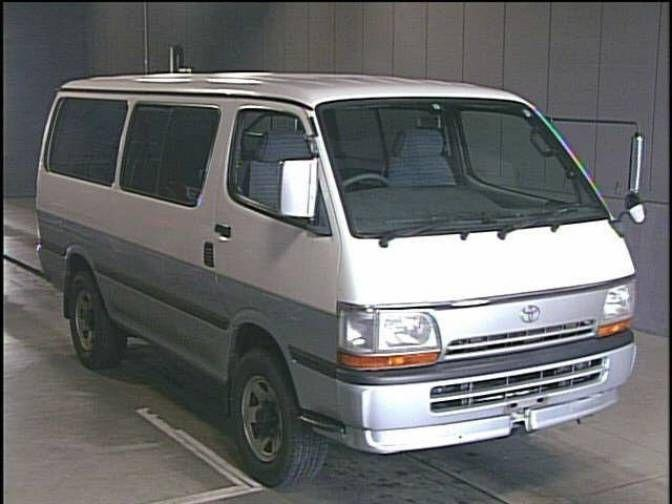van: (41, 66, 646, 467)
